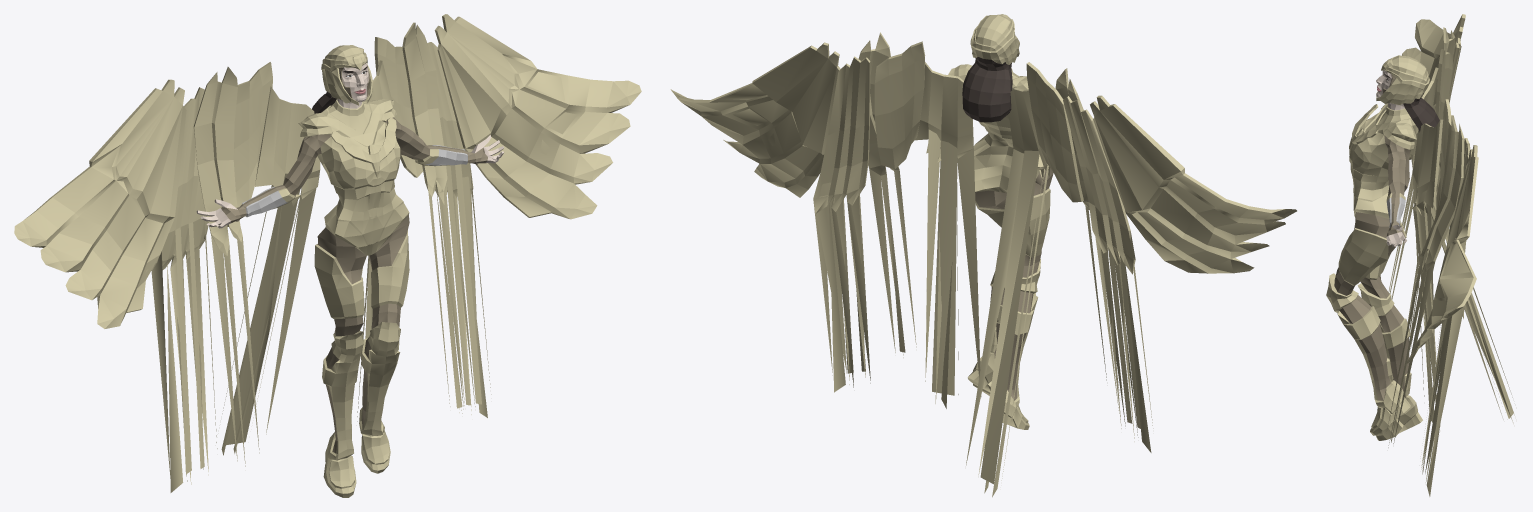
File: wonder_women.glb
The picture shows the model from 3 angles, left to right: view 1: azimuth 30°, elevation 25°; view 2: azimuth 150°, elevation 25°; view 3: azimuth 270°, elevation 25°; orthographic projection. The views are drawn at different scales.
Parts seen in each view (by area): view 1: WonderWomanGolden.obj_Gold_0; view 2: WonderWomanGolden.obj_Gold_0; view 3: WonderWomanGolden.obj_Gold_0.
Boxes of the visible parts, <box> form: WonderWomanGolden.obj_Gold_0: <box>14,14,641,497</box>; WonderWomanGolden.obj_Gold_0: <box>670,14,1296,497</box>; WonderWomanGolden.obj_Gold_0: <box>1326,14,1514,496</box>.
Size of the model in its own units: 61.14 by 40.36 by 17.95.
